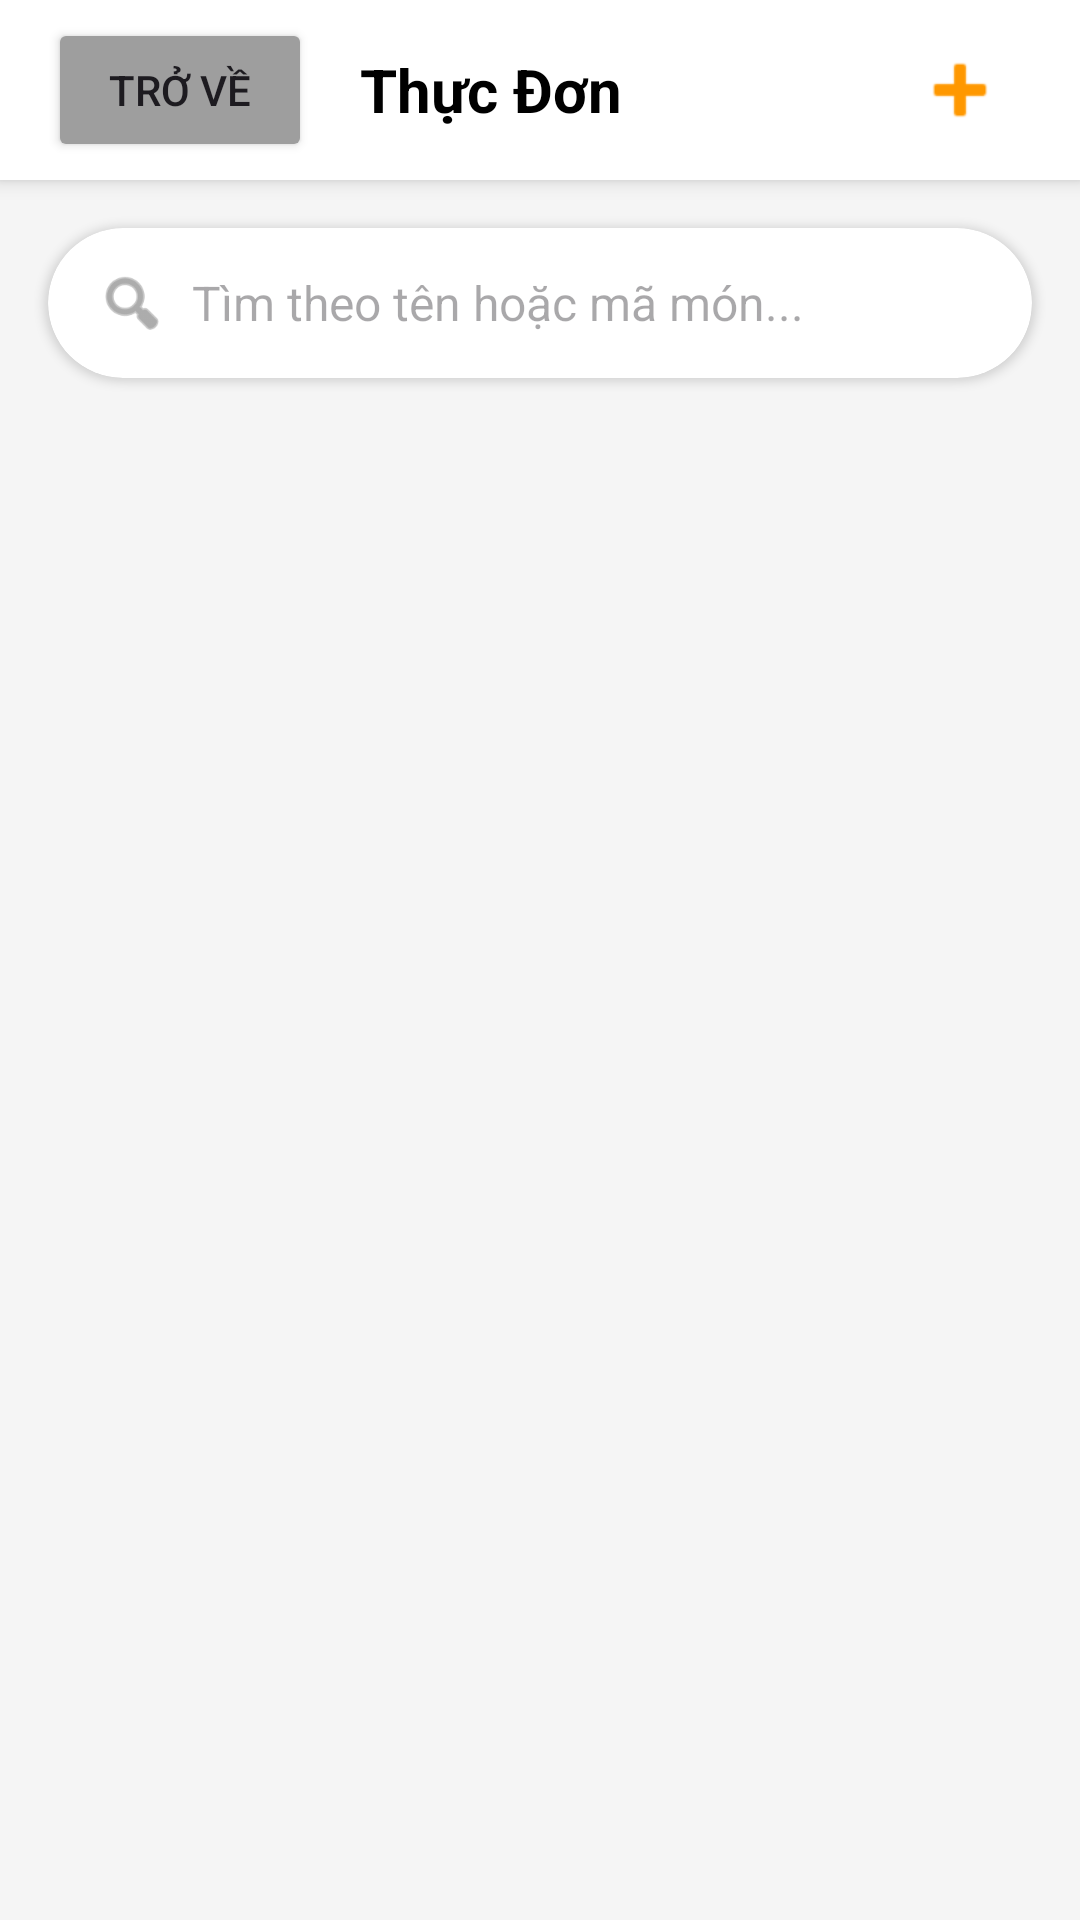

Named icons in this screenshot (1080w x 1920h) and their centers, point (x, y):
add: point (960, 90)
search: point (132, 303)
